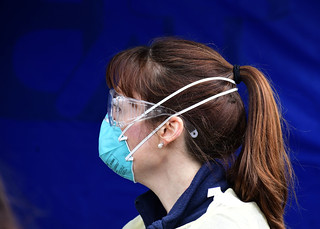n95: (92, 111, 142, 185)
